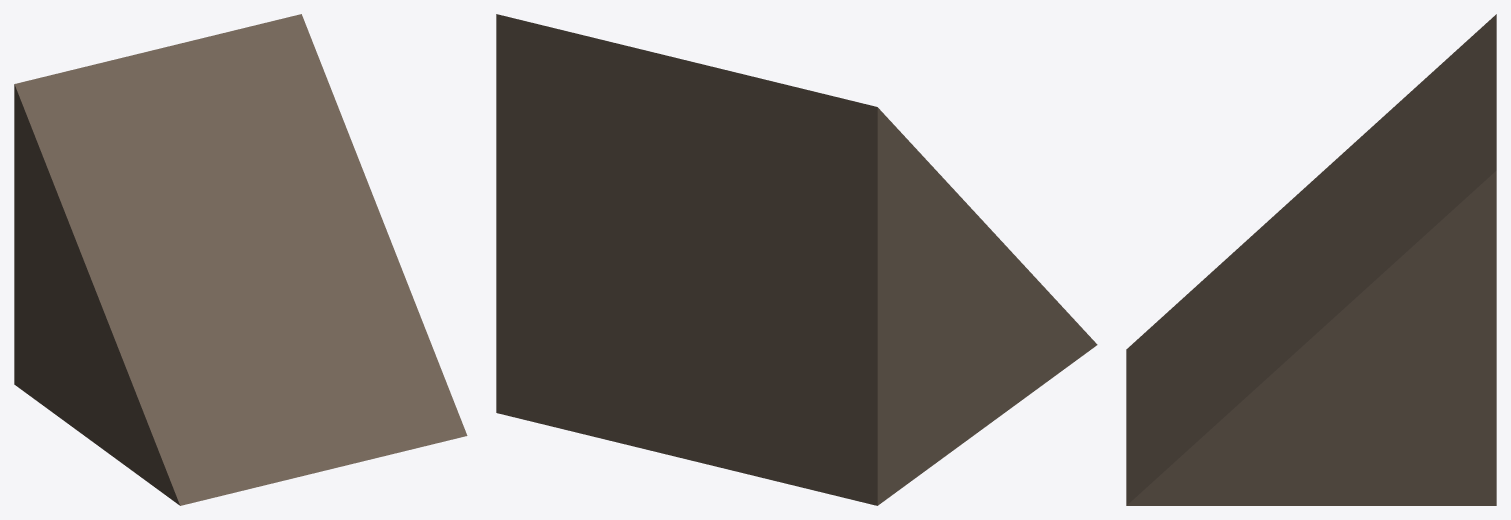
Rendered from stairsform.fbx.
3 views of the same model, side by side, from view 1: azimuth 30°, elevation 25°; view 2: azimuth 150°, elevation 25°; view 3: azimuth 270°, elevation 25° (orthographic). The views are drawn at different scales.
Parts seen in each view (by area): view 1: LowPolyStairs; view 2: LowPolyStairs; view 3: LowPolyStairs.
Part boxes in pixels (x1=…): LowPolyStairs: x1=14, y1=14, x2=467, y2=505; LowPolyStairs: x1=496, y1=14, x2=1097, y2=505; LowPolyStairs: x1=1126, y1=14, x2=1496, y2=505.
Bounding box in the file's own units: 200 × 200 × 200.
